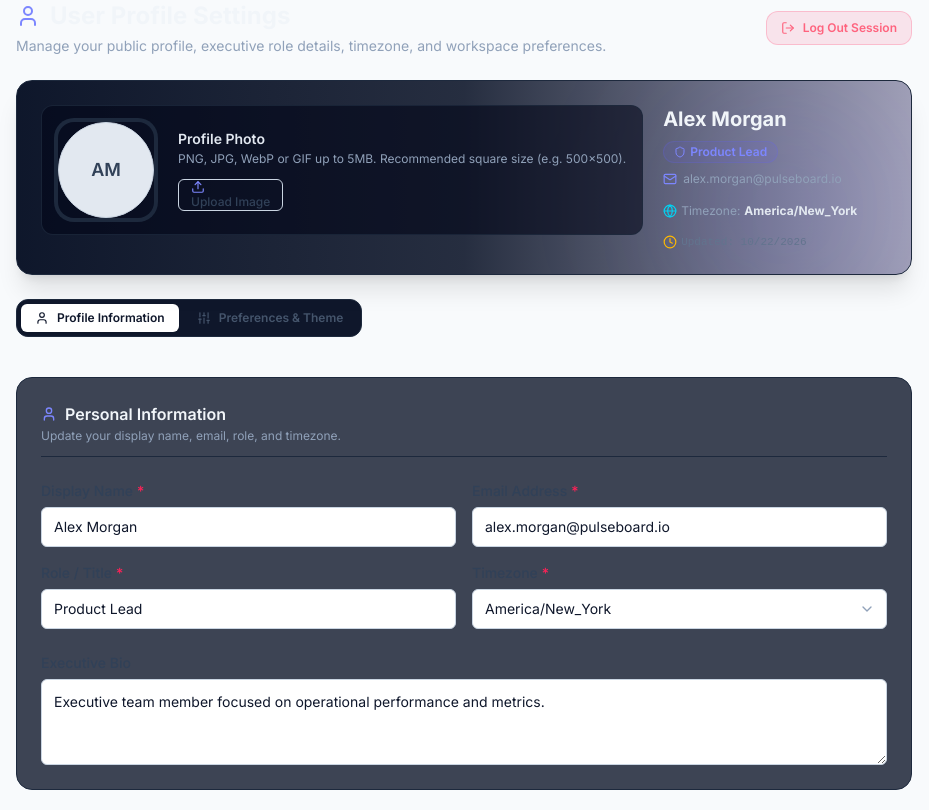
Test case: ProfilePage Integration Tests › switches between tabs and allows changing theme preference
The width and height of the screenshot is (929, 810).
Click the tab "Preferences & Theme": (270, 318) [183, 304, 357, 332]
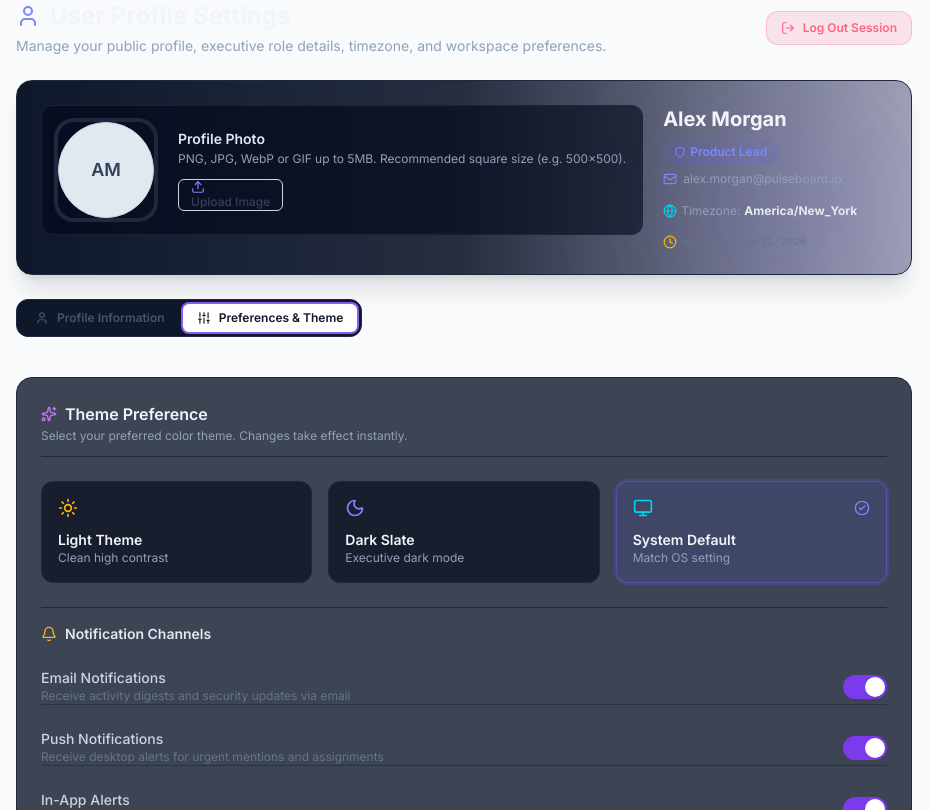
Now the heading "Theme Preference" is shown, box [41, 404, 208, 424]
Now the button "Light Theme Clean high contrast" is shown
Now the button "Dark Slate Executive dark mode" is shown, box [328, 481, 600, 583]
Click the button "Light Theme Clean high contrast": (100, 539) [41, 481, 312, 583]
(page scrolled)
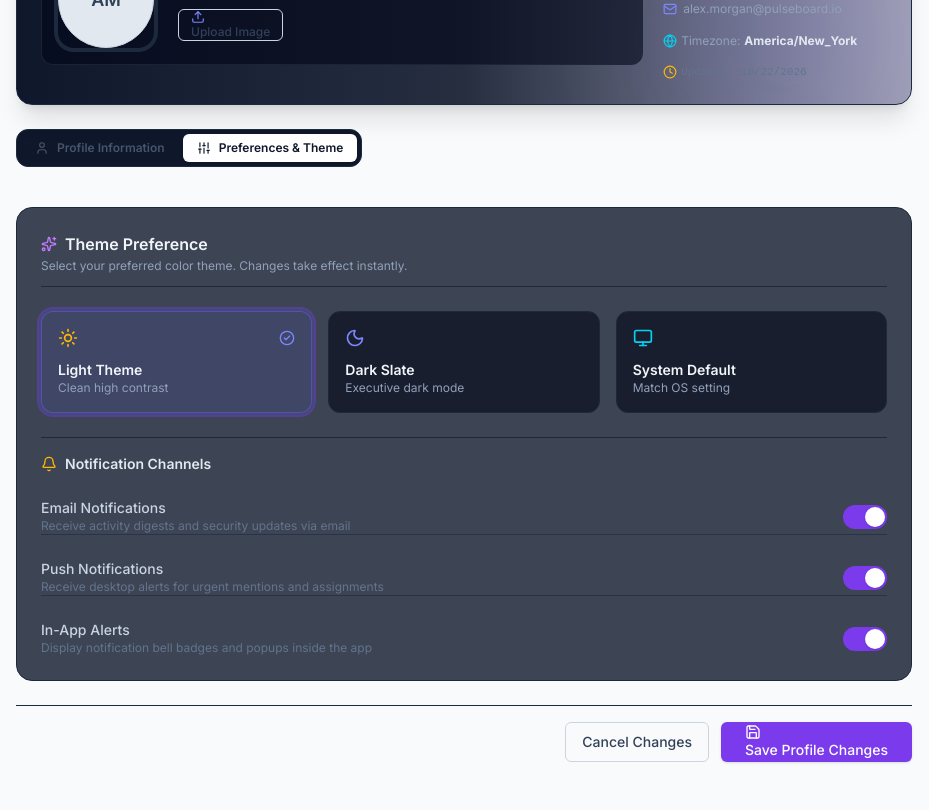
Click the button "Save Profile Changes": (816, 742) [721, 722, 912, 762]
(page scrolled)
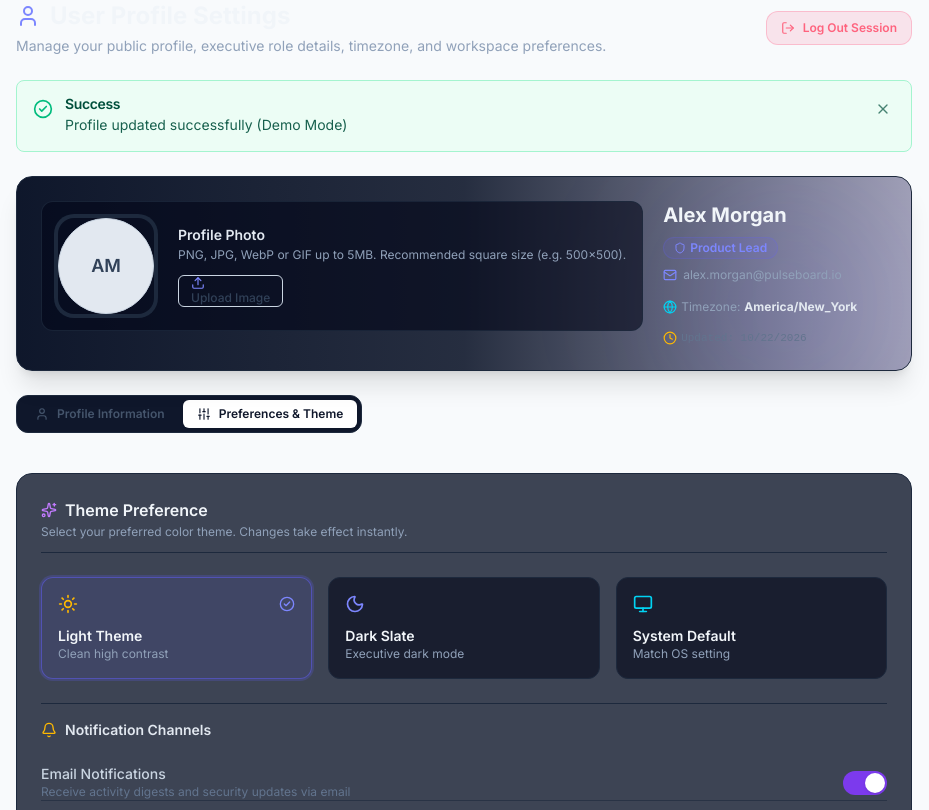
Now the text "Profile updated successfully (Demo Mode)" is shown, box [65, 116, 347, 133]
